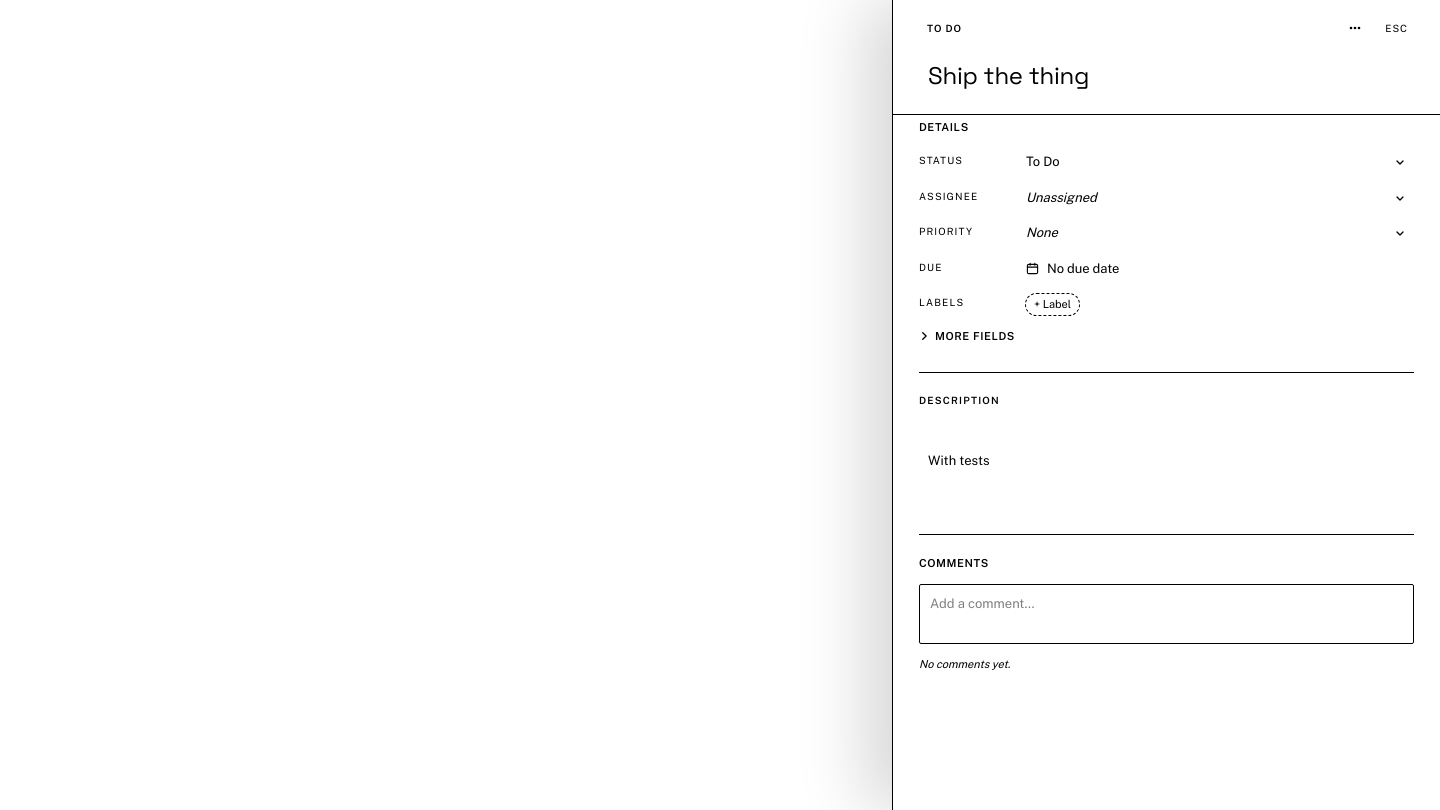
Test: CardDetailModal — labels › refuses to create a nameless label
Click the button with aria-label "Add a label": (1053, 305) [1025,293,1080,316]
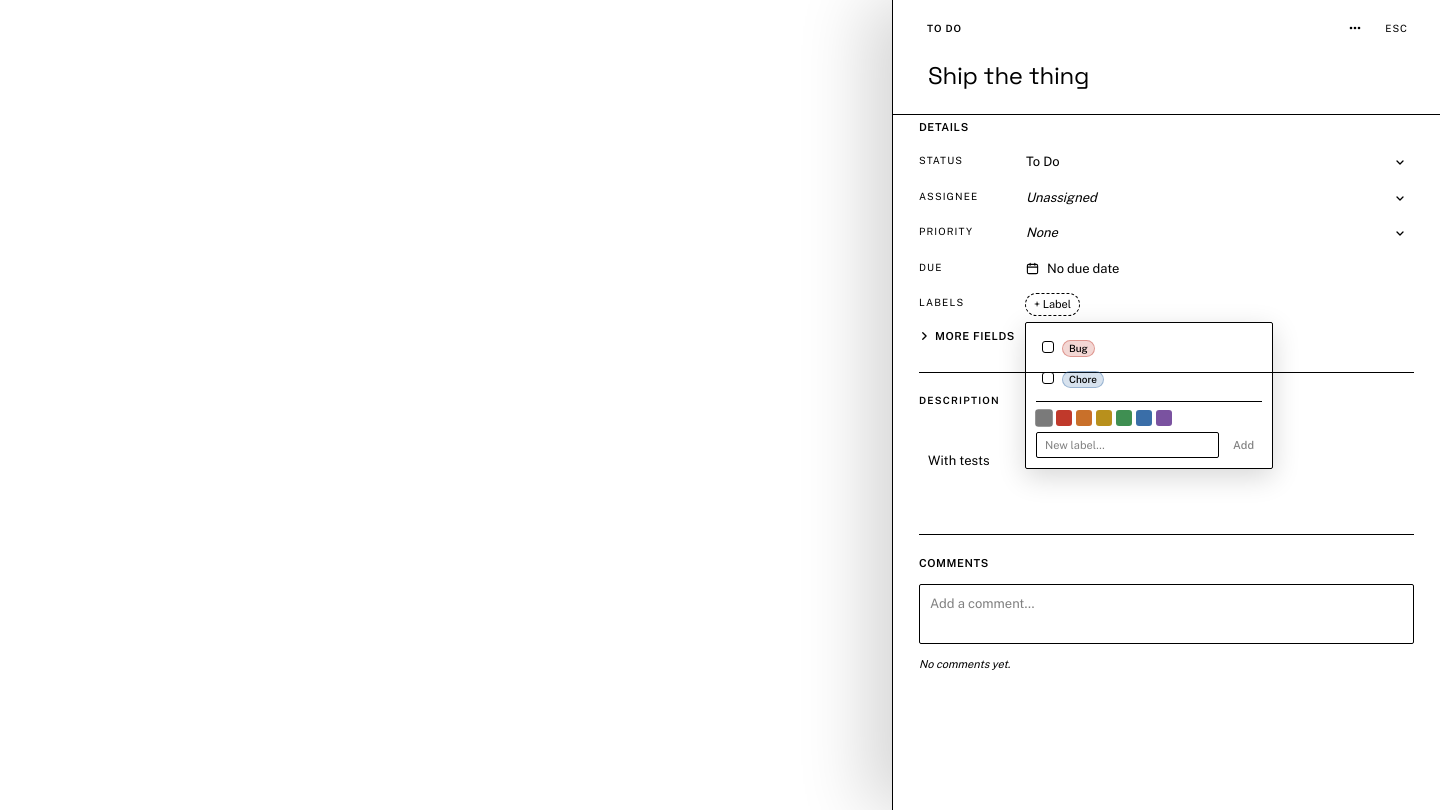
Expected: the button "Add" is disabled, [1225,433,1262,457]
